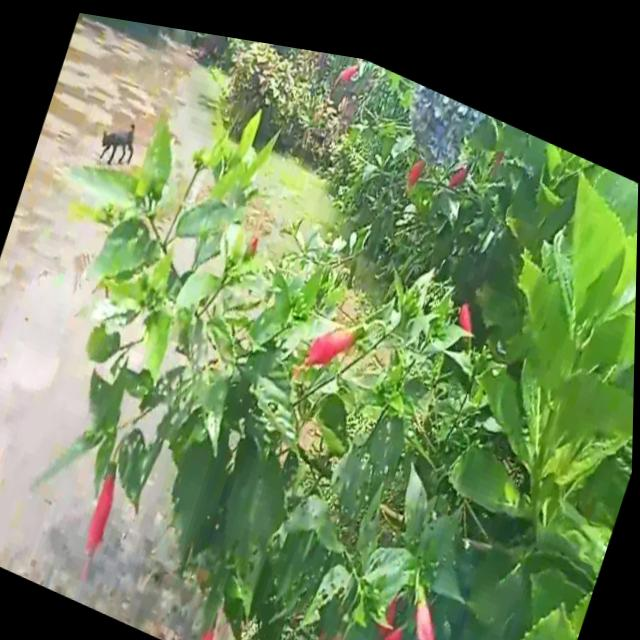Flower: (76, 444, 136, 566), (395, 559, 459, 640), (305, 290, 367, 372), (308, 605, 362, 640)
